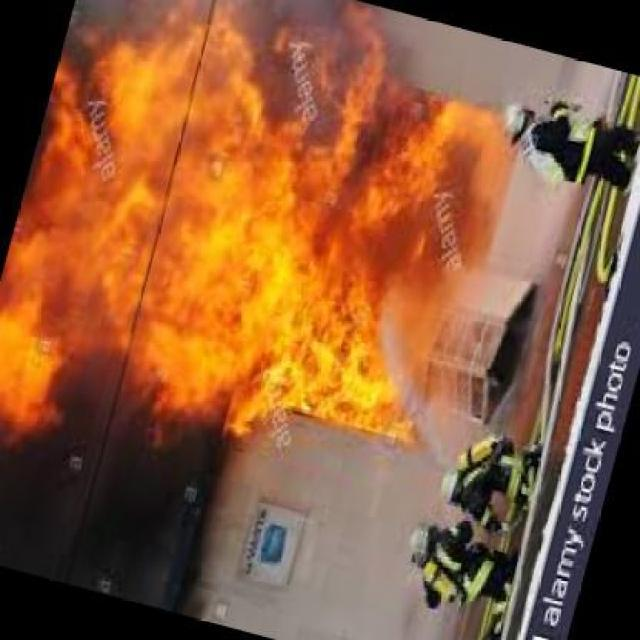Fire: (68, 9, 506, 462)
